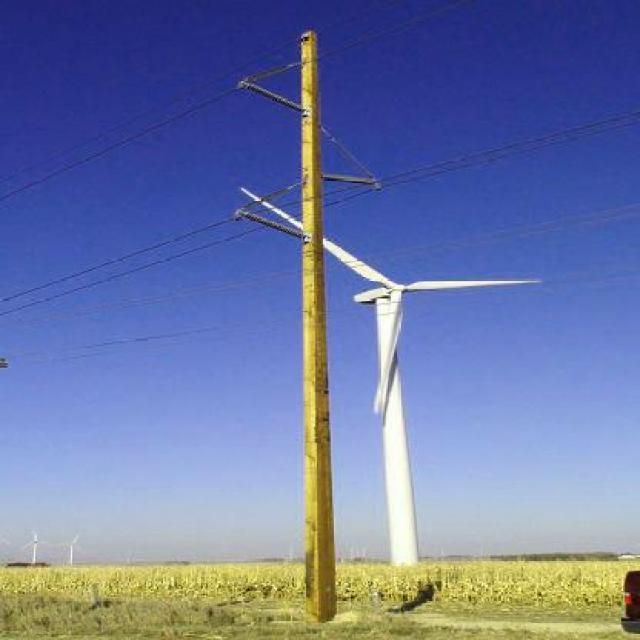crossarm: (234, 210, 302, 240), (245, 76, 297, 111), (320, 175, 382, 190)
pole: (295, 29, 337, 625)
wire: (0, 244, 211, 317), (84, 82, 243, 163), (473, 113, 637, 155), (0, 256, 118, 300), (518, 125, 621, 159), (0, 163, 84, 199), (328, 175, 426, 203), (211, 224, 264, 244), (426, 163, 497, 175)
